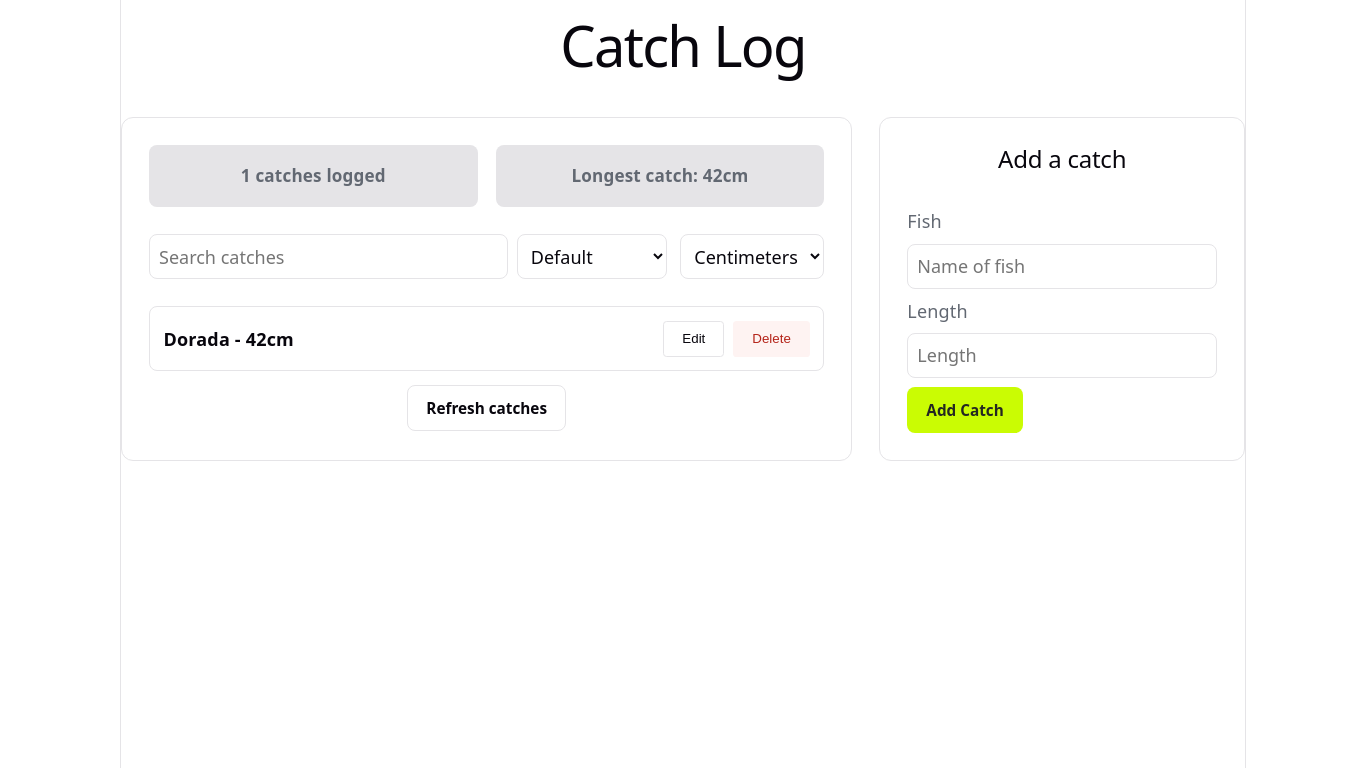
Test case: preserves edits and allows retry after PATCH failure
Expected: the link "Dorada" is shown, [164,327,230,351]
Click the button "Edit" at x=694, y=339, box [663,321,724,357]
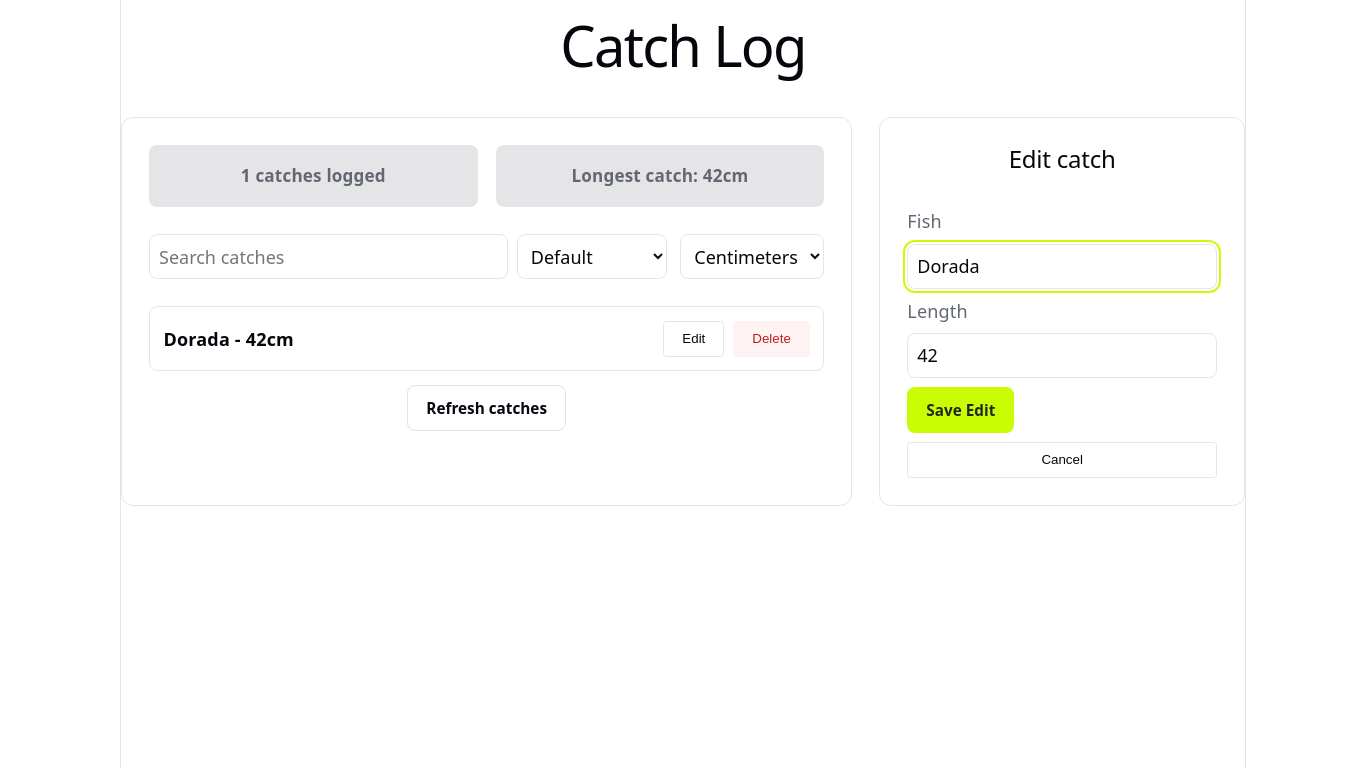
Replace the text in the number field labelled "Length" with "45" at x=1062, y=355, box [907,333,1217,378]
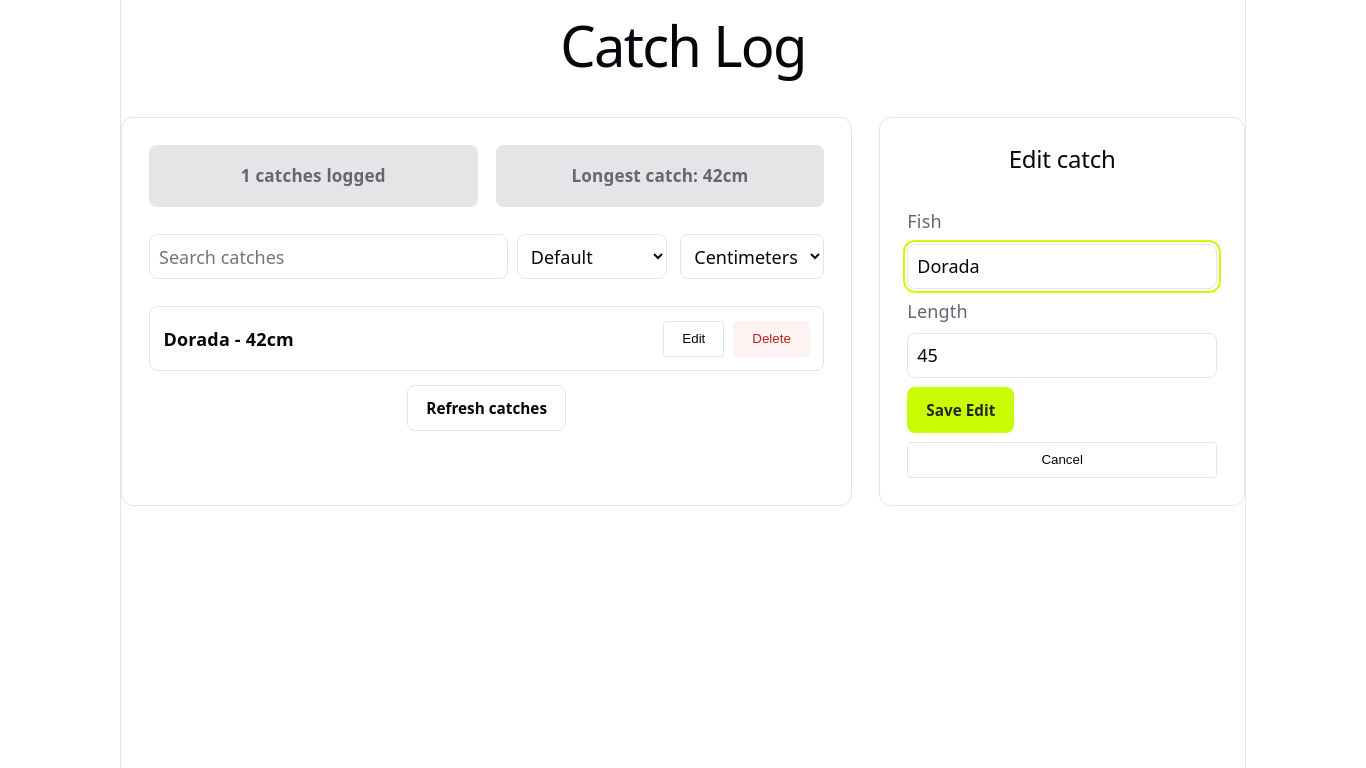
Click the button "Save Edit" at x=961, y=410, box [907,387,1014,433]
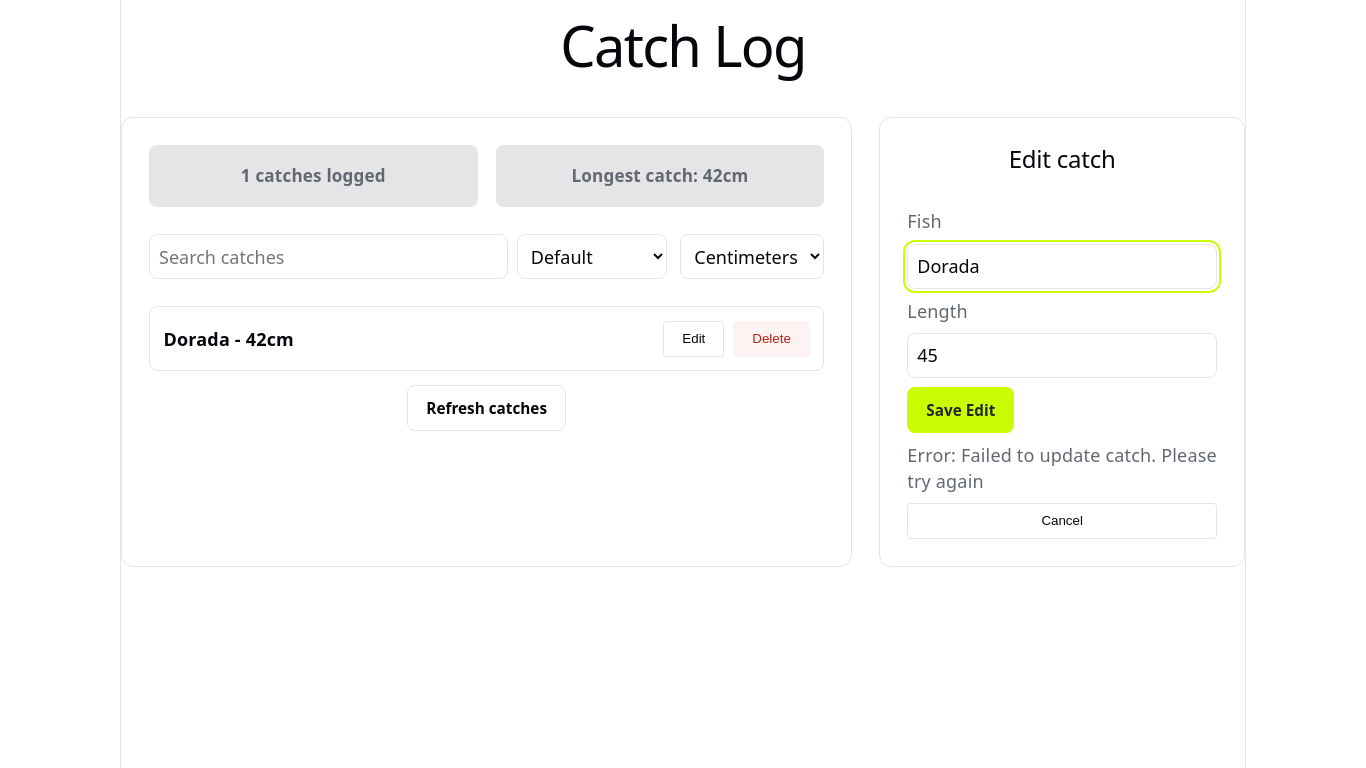
Expected: the list item "Dorada" reads "Dorada - 42cm Edit Delete", [149,306,824,371]
Click the button "Save Edit" at x=961, y=410, box [907,387,1014,433]
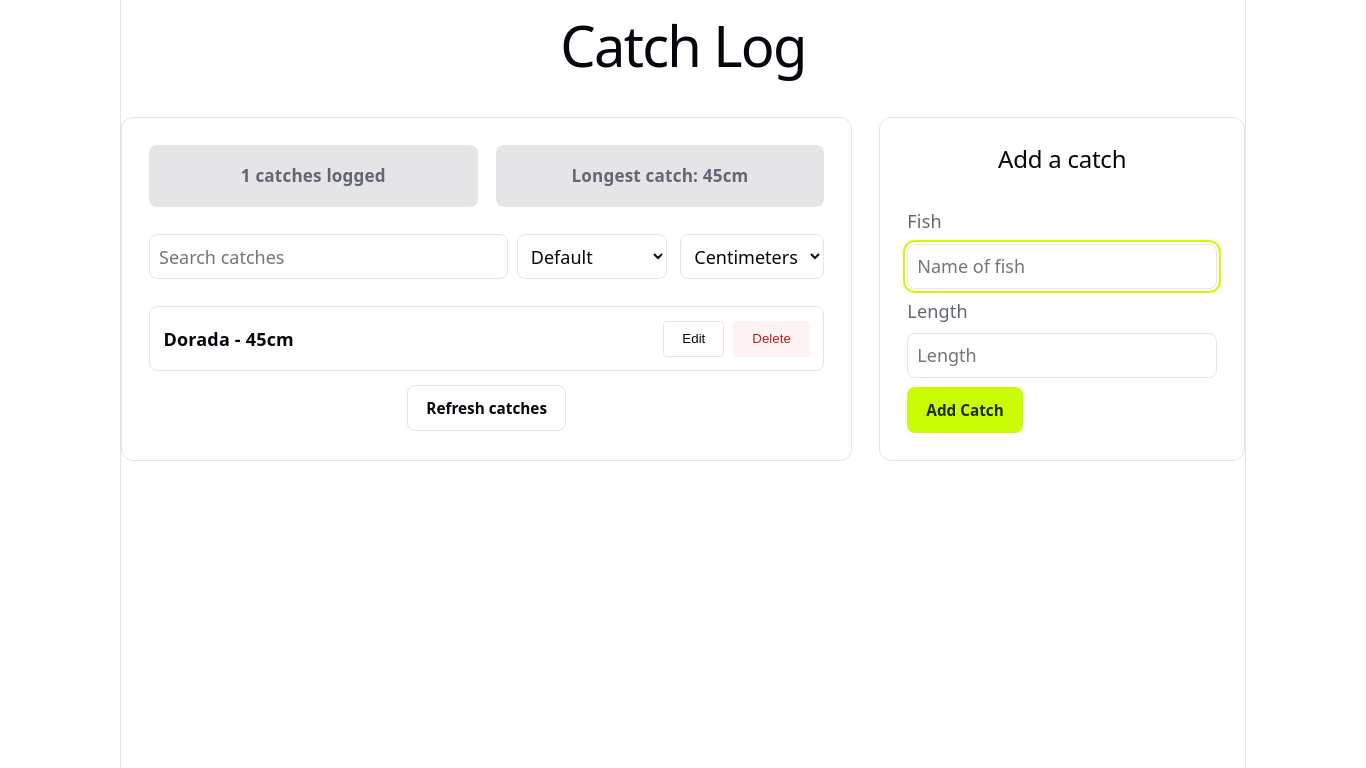
Expected: the list item "Dorada" reads "Dorada - 45cm Edit Delete", [149,306,824,371]
Expected: the button "Add Catch" is shown, [907,387,1023,433]
Expected: the field labelled "Fish" is empty, [907,244,1217,288]
